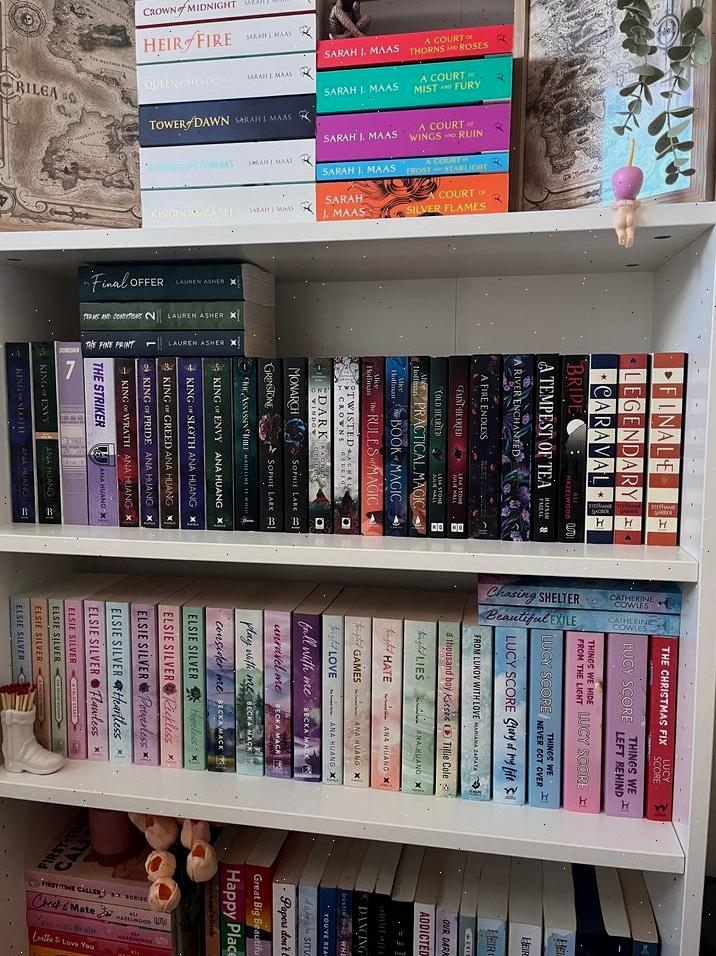book: (139, 50, 316, 112), (317, 56, 510, 112), (143, 139, 315, 193), (482, 576, 680, 618), (646, 351, 687, 547), (82, 261, 264, 300), (643, 634, 678, 823), (528, 629, 564, 812), (400, 618, 436, 798), (584, 354, 618, 544), (83, 349, 119, 525), (486, 604, 678, 637), (491, 626, 526, 806), (55, 344, 89, 526), (614, 353, 646, 545), (315, 152, 507, 184), (500, 354, 532, 541), (371, 613, 404, 793), (558, 353, 589, 544), (140, 108, 314, 142), (468, 355, 500, 539), (4, 343, 36, 524), (458, 623, 490, 803), (342, 606, 373, 789), (156, 598, 188, 772), (290, 607, 321, 784), (532, 355, 561, 543), (82, 301, 252, 333), (30, 343, 60, 523), (264, 602, 292, 781), (234, 606, 263, 778), (205, 603, 234, 774), (333, 356, 360, 534), (203, 359, 231, 530), (105, 600, 134, 765), (435, 620, 461, 800), (359, 356, 385, 536), (255, 359, 282, 532), (178, 358, 205, 531), (320, 603, 345, 786), (81, 333, 250, 360), (384, 356, 409, 538), (232, 359, 258, 531), (181, 602, 207, 771), (283, 358, 308, 533), (308, 359, 332, 535), (446, 357, 469, 539), (115, 357, 139, 525), (84, 598, 108, 762), (427, 357, 448, 539), (409, 356, 430, 537), (157, 360, 179, 529), (137, 359, 159, 528), (48, 596, 68, 759), (30, 595, 50, 754)
